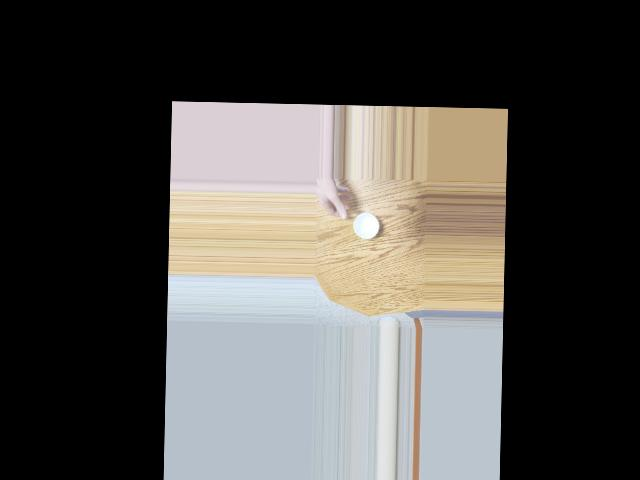cotage: (350, 206, 378, 239)
